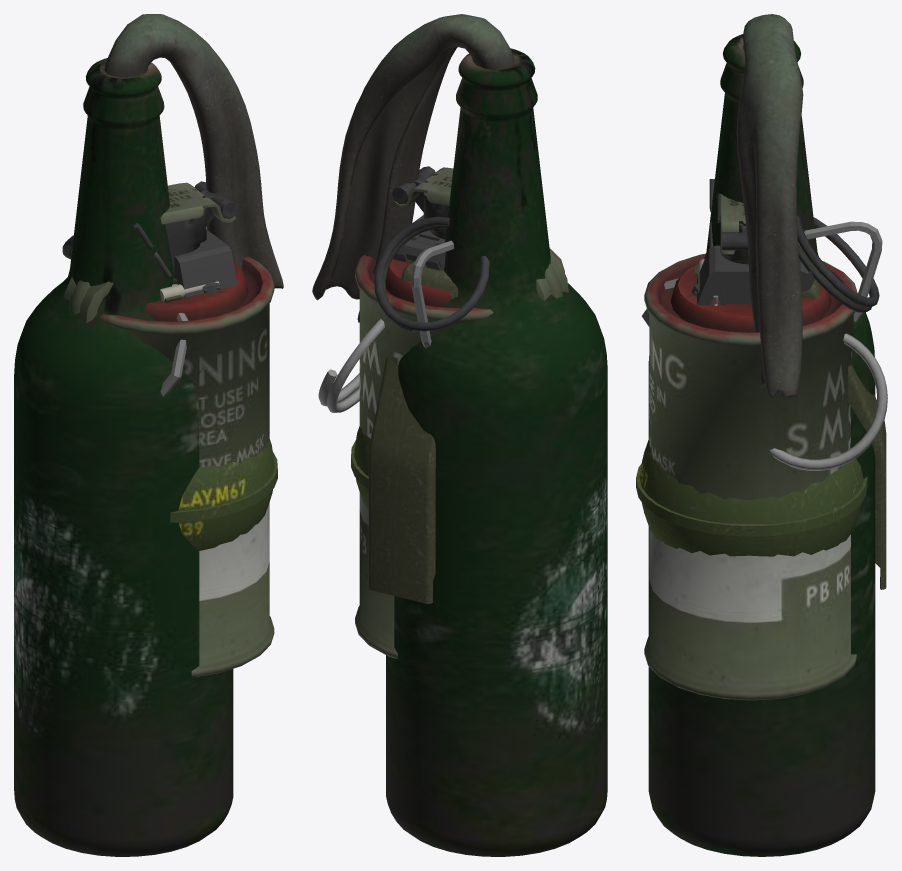
Rendered from grenades.glb.
3 views of the same model, side by side, from view 1: azimuth 30°, elevation 25°; view 2: azimuth 150°, elevation 25°; view 3: azimuth 270°, elevation 25° (orthographic). The views are drawn at different scales.
Parts seen in each view (by area): view 1: grenade_molotov, grenade_smoke, grenade_he, grenade_flash; view 2: grenade_molotov, grenade_he, grenade_smoke, grenade_flash; view 3: grenade_smoke, grenade_molotov, grenade_he, grenade_flash.
Boxes of the visible parts, left/top/right/bottom form: grenade_molotov: left=14, top=14, right=283, bottom=856; grenade_smoke: left=62, top=181, right=274, bottom=676; grenade_he: left=160, top=281, right=277, bottom=550; grenade_flash: left=160, top=230, right=237, bottom=396; grenade_molotov: left=312, top=14, right=607, bottom=856; grenade_he: left=318, top=262, right=458, bottom=603; grenade_smoke: left=355, top=166, right=568, bottom=658; grenade_flash: left=393, top=215, right=453, bottom=348; grenade_smoke: left=644, top=179, right=879, bottom=700; grenade_molotov: left=648, top=14, right=875, bottom=856; grenade_he: left=636, top=259, right=887, bottom=589; grenade_flash: left=642, top=221, right=882, bottom=326.
Bounding box in the file's own units: 0.0913 × 0.26 × 0.0731.
Materials: 9 (4 with a texture image).
